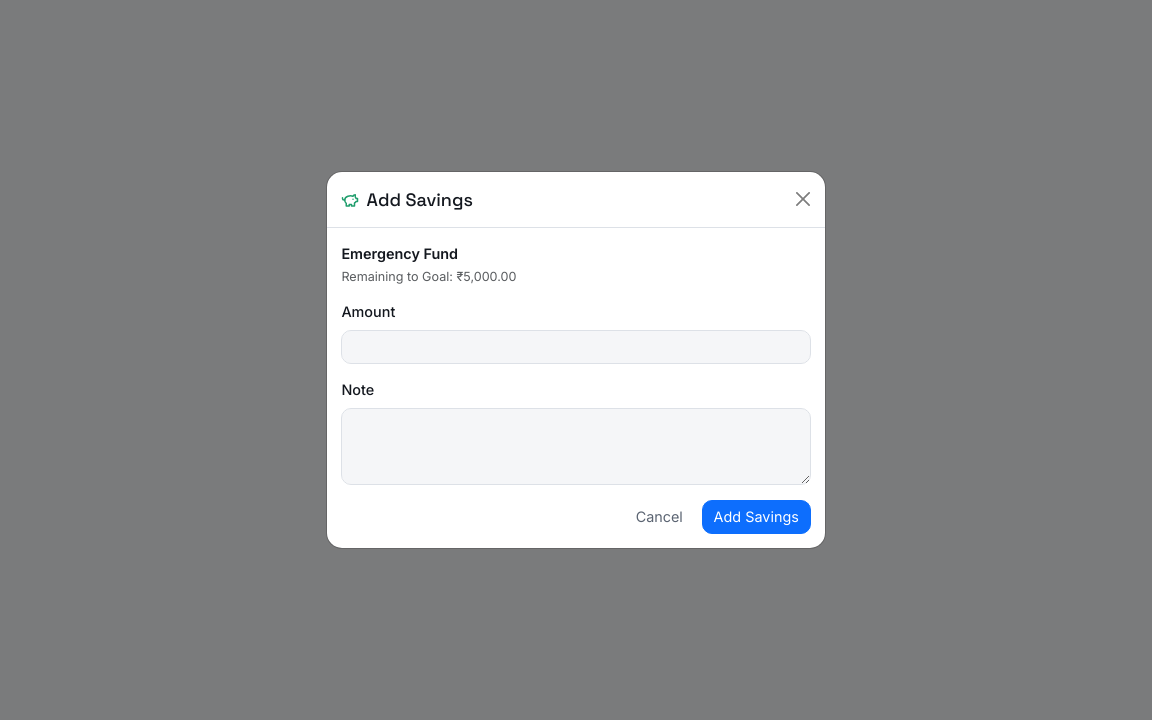
Test: AddSavingsModal › rejects a zero or negative amount
Type "0" into the number field.
click(576, 347); type("0")  # box x1=341 y1=330 x2=811 y2=364
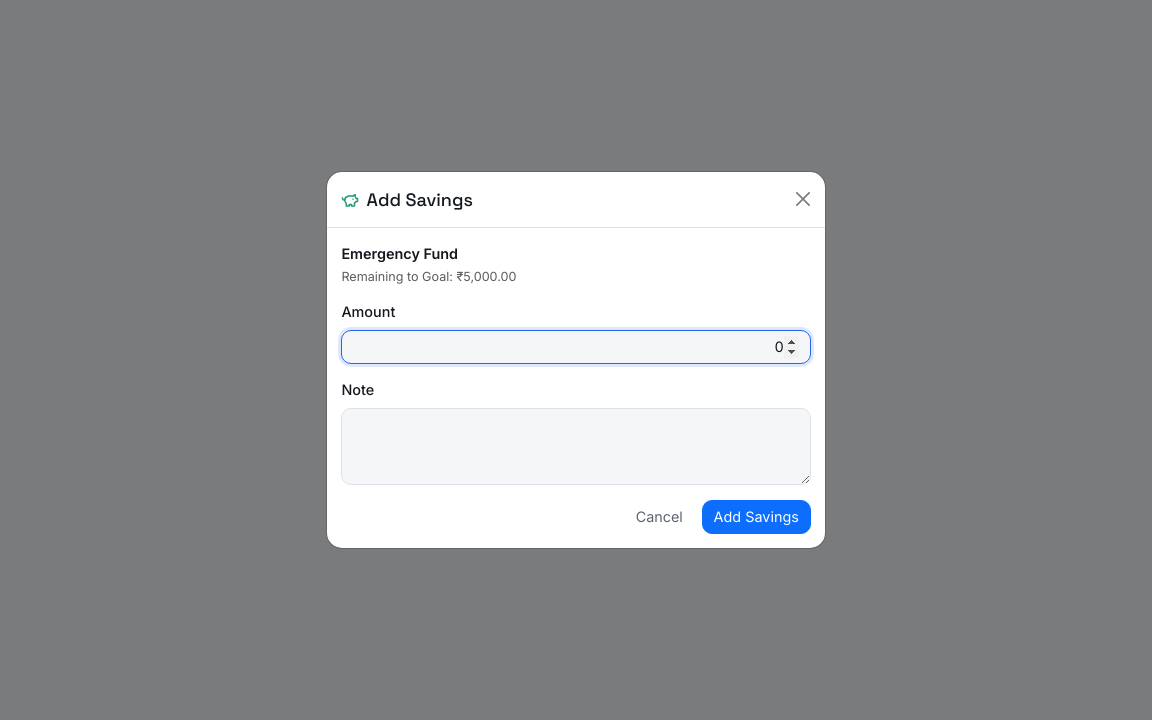
Click the button "Add Savings".
click(756, 517)  # box x1=702 y1=500 x2=811 y2=534
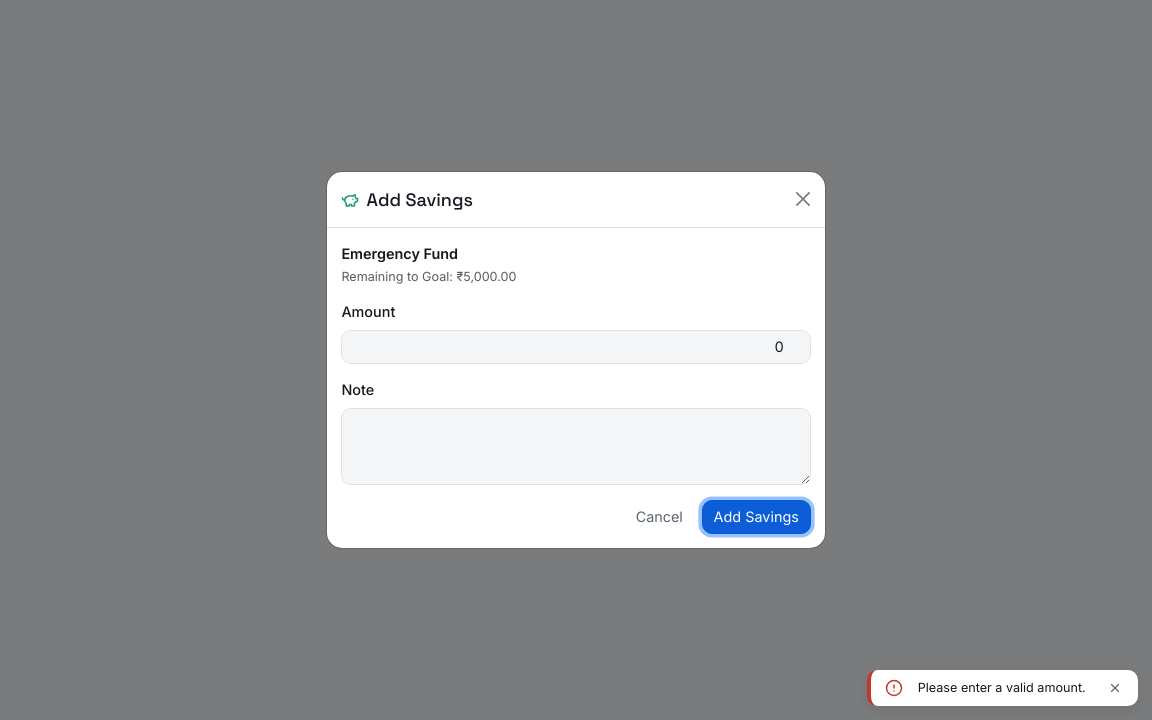
expect the text "Please enter a valid amount." is shown: met, box x1=918 y1=678 x2=1086 y2=697
